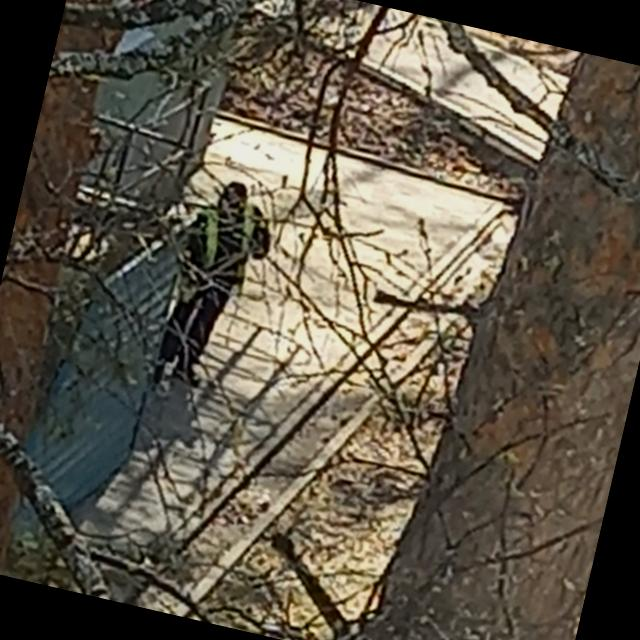person: (148, 171, 282, 409)
